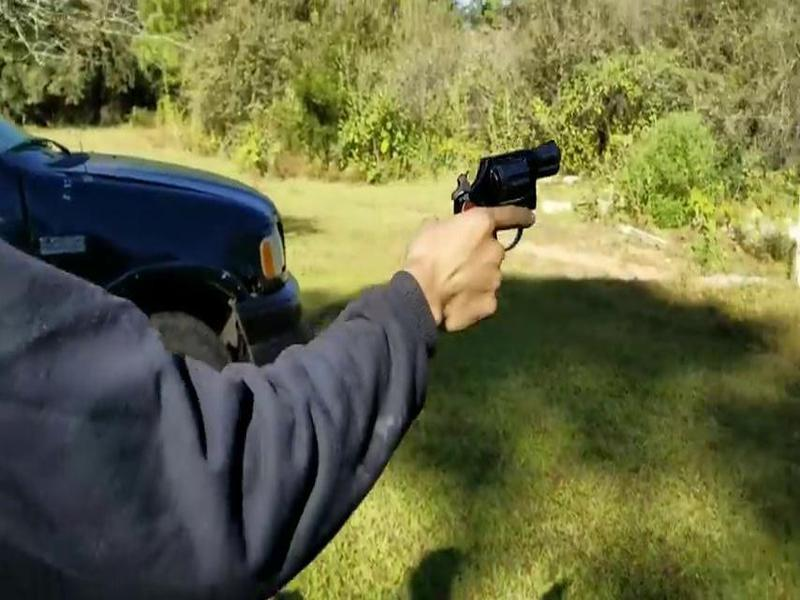Revolver: (439, 137, 576, 252)
